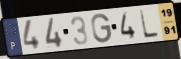3: (70, 15, 89, 46)
4: (22, 18, 41, 52), (44, 17, 64, 49), (120, 11, 137, 41)
G: (91, 13, 113, 45)
L: (139, 9, 161, 40)
